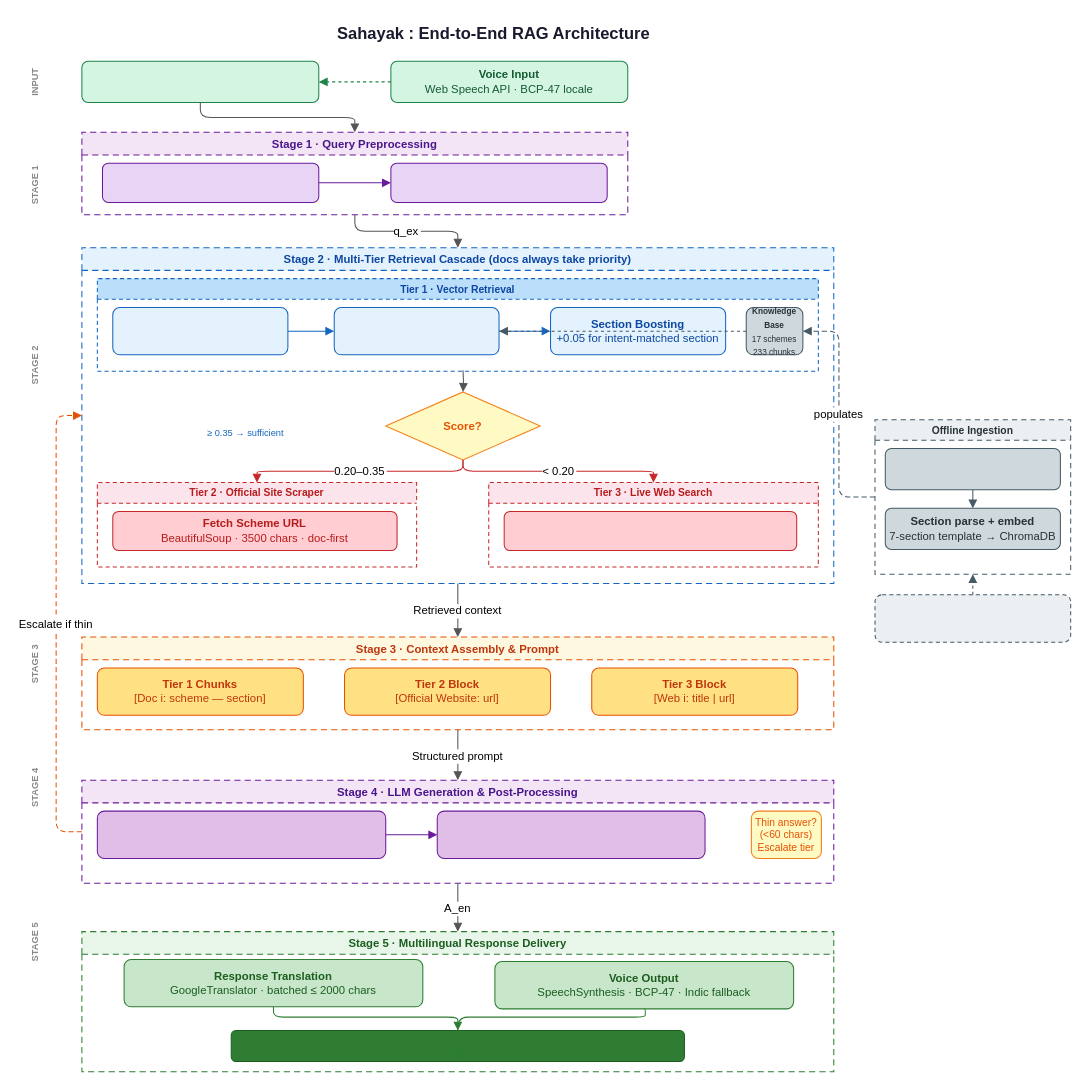
Some shapes in this 1089 by 1090 pixel diagram are drawn without their labels. Each missing label, with the centre of its shape:
"Acronym Expansion 25-entry dict · regex replace" belongs at point (498, 182).
"ChromaDB Search k=4 · cosine · HNSW" belongs at point (416, 330).
"DuckDuckGo Search Instant answer + 5 snippets · doc-first" belongs at point (650, 530).
"Embed Query all-MiniLM-L6-v2 · 384-d" belongs at point (200, 330).
"Final Response - A_l · Text + voice + source tier badge" belongs at point (457, 1045).
"Live Ingest API POST /ingest/url → ChromaDB" belongs at point (972, 618).
"Llama-3-8B-Instruct temp=0.2 · HF Inference API" belongs at point (241, 834).
"Parse docs txt / pdf / docx / html" belongs at point (972, 469).
"Post-Processing Dedup · label cleaning → A_en" belongs at point (570, 834).
"Translate to English GoogleTranslator · ISO 639-1" belongs at point (210, 182).
"User Query Text or voice · 11 languages" belongs at point (200, 81).
